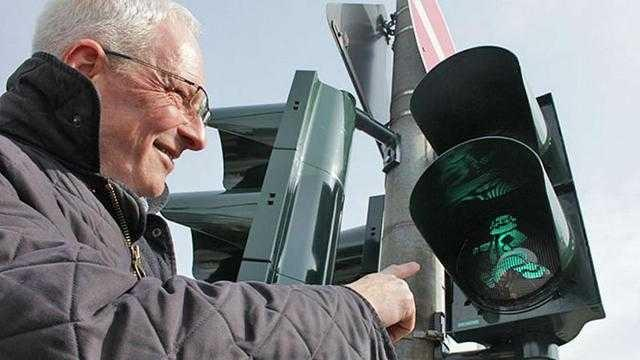green: (437, 176, 569, 304)
